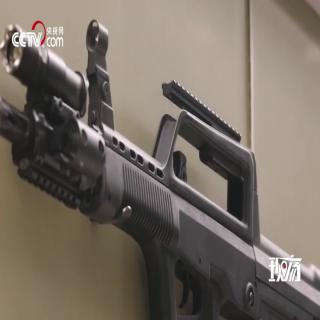gun: (1, 12, 312, 315)
